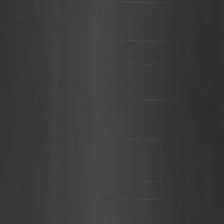waist_folding: (121, 12, 191, 199)
